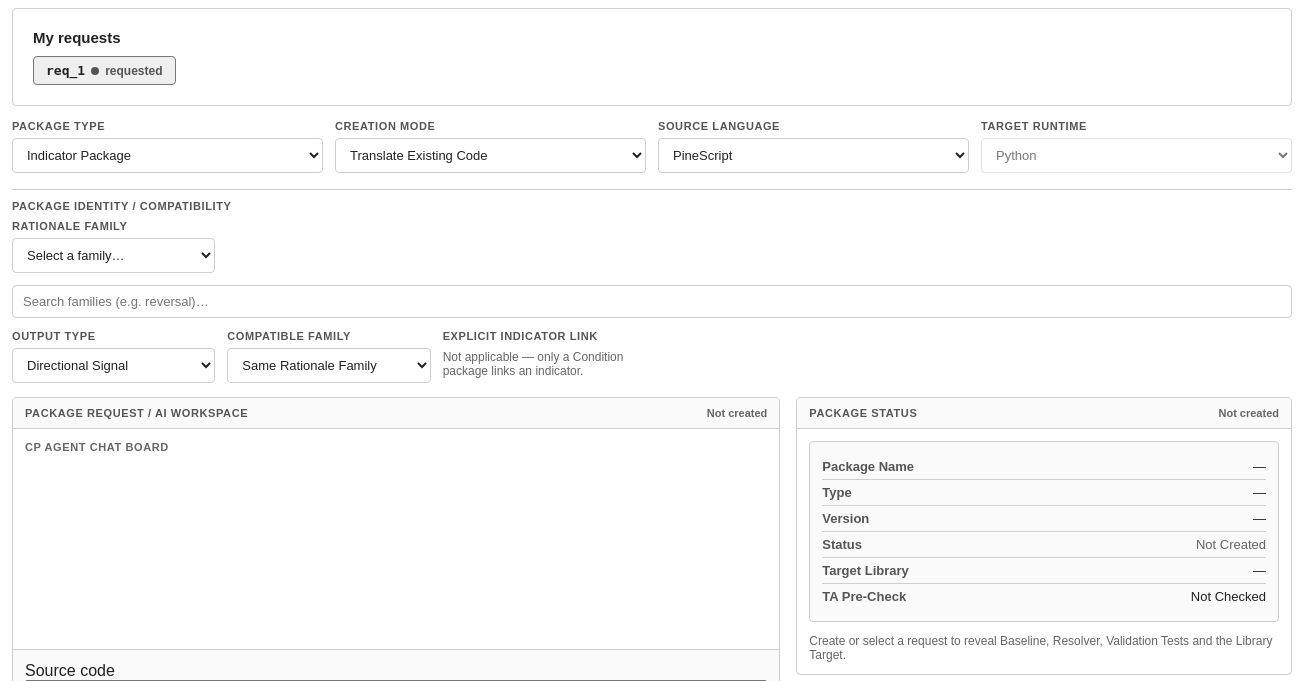
Test case: Create Package page › locks re-admission while the projection reports the parse in flight
This screenshot has width=1304, height=681.
Expected: the text "req_1" is shown, [46,63,85,78]
Click the button "req_1 requested": (104, 70) [33,56,176,85]
(page scrolled)
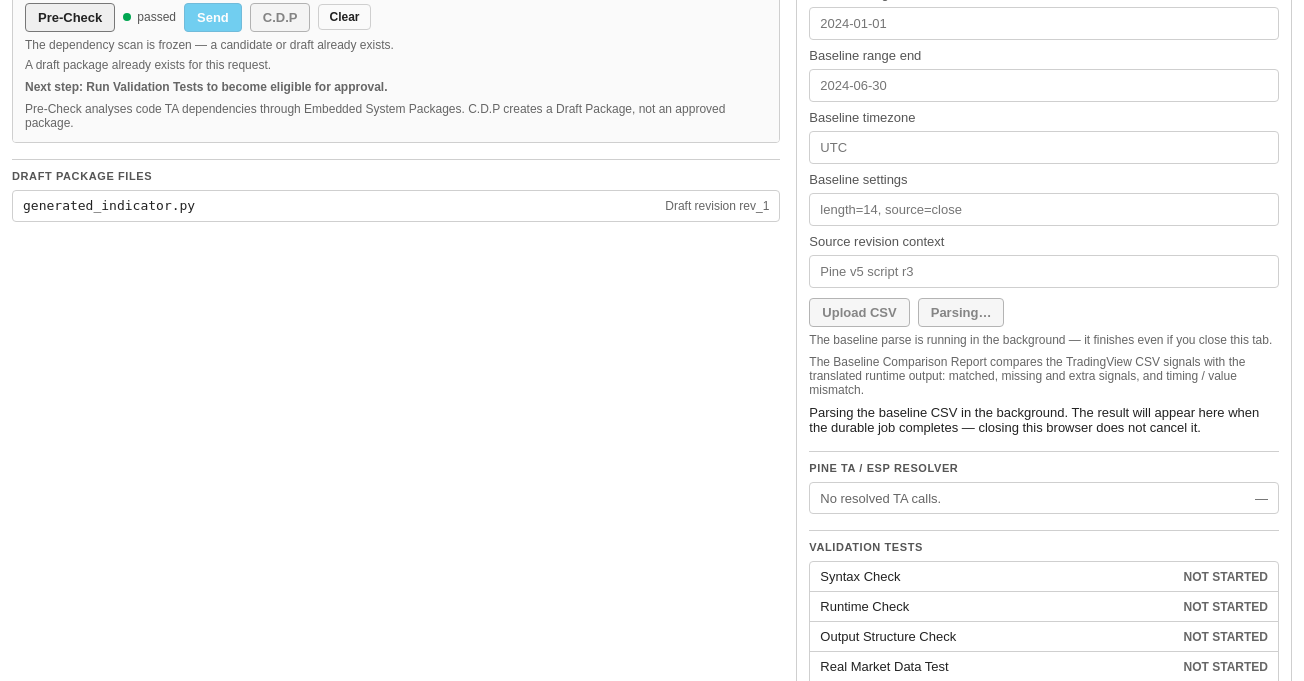
Expected: the button "Parsing…" is disabled, [918,298,1004,327]
Expected: the text "The baseline parse is running in the background" is shown, [809,333,1272,347]
